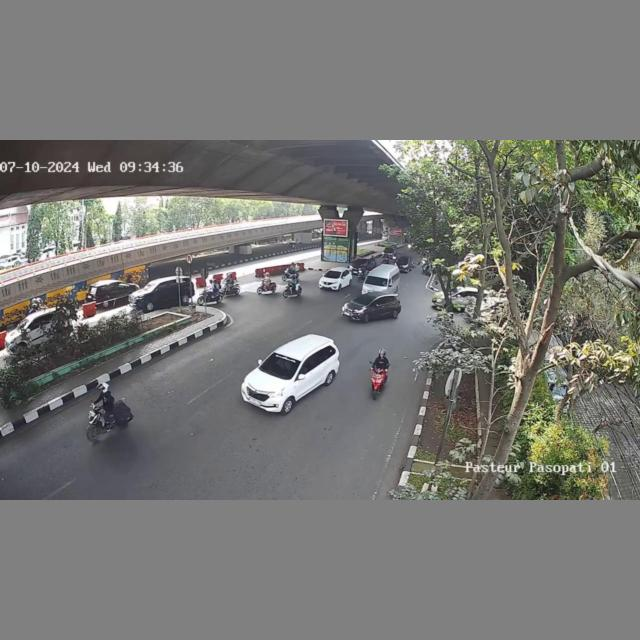windshield: (258, 352, 301, 378), (365, 275, 387, 286), (323, 270, 341, 279)
